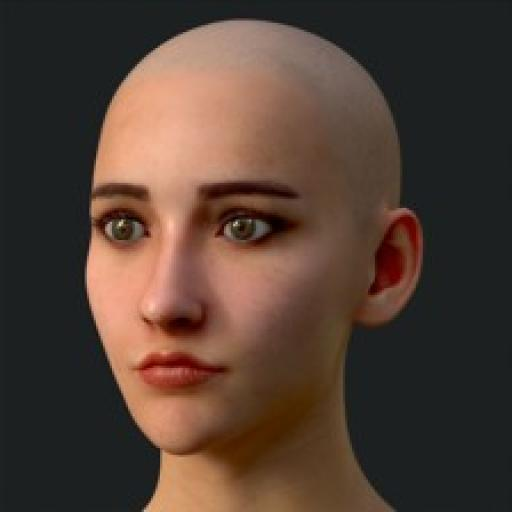human: (60, 11, 434, 512)
